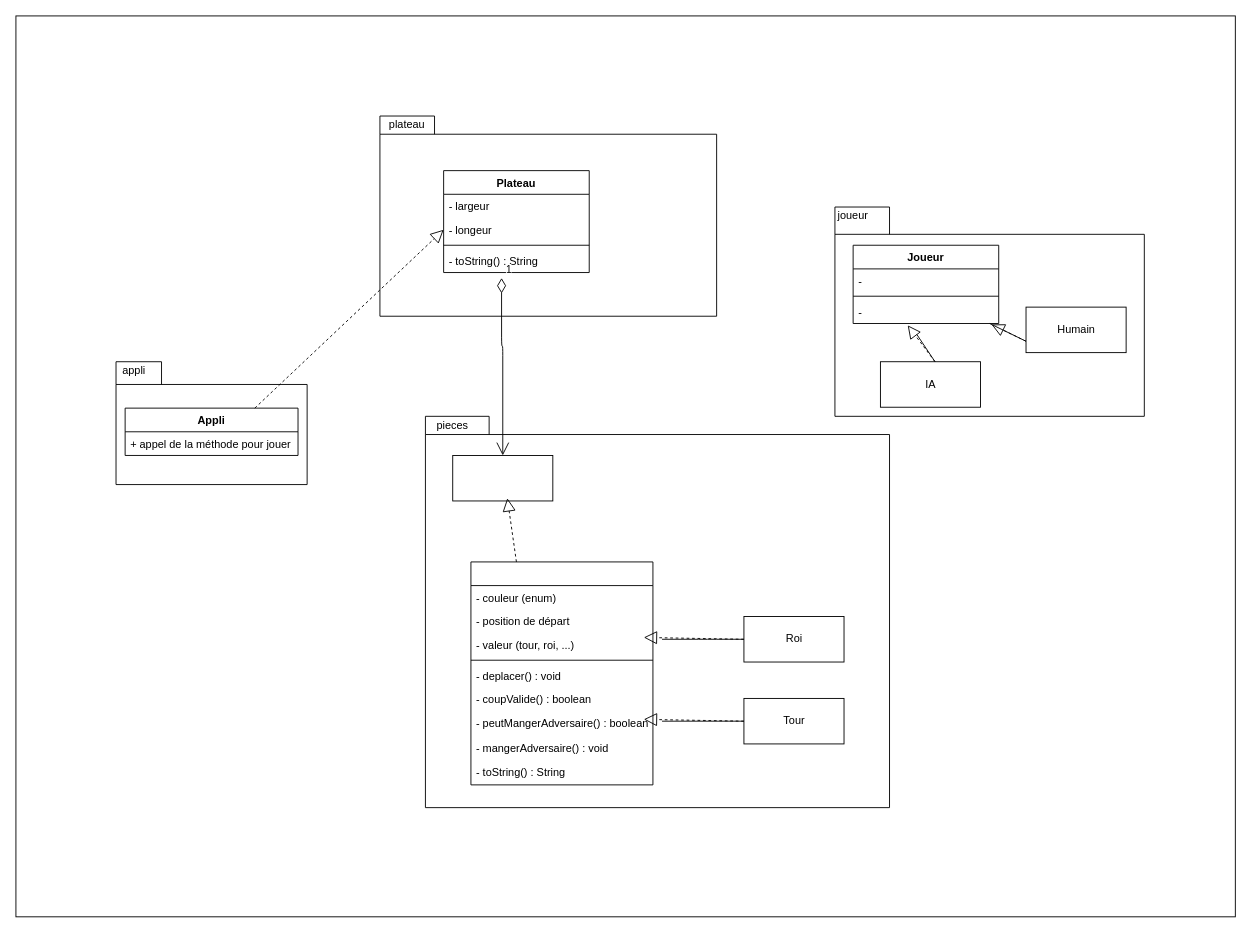
Image size: 1251x933. Some labels were removed from this diagram. Each missing label, with the box of its shape:
Piece: (470, 561, 653, 785)
«interface» Piece: (452, 455, 553, 501)
